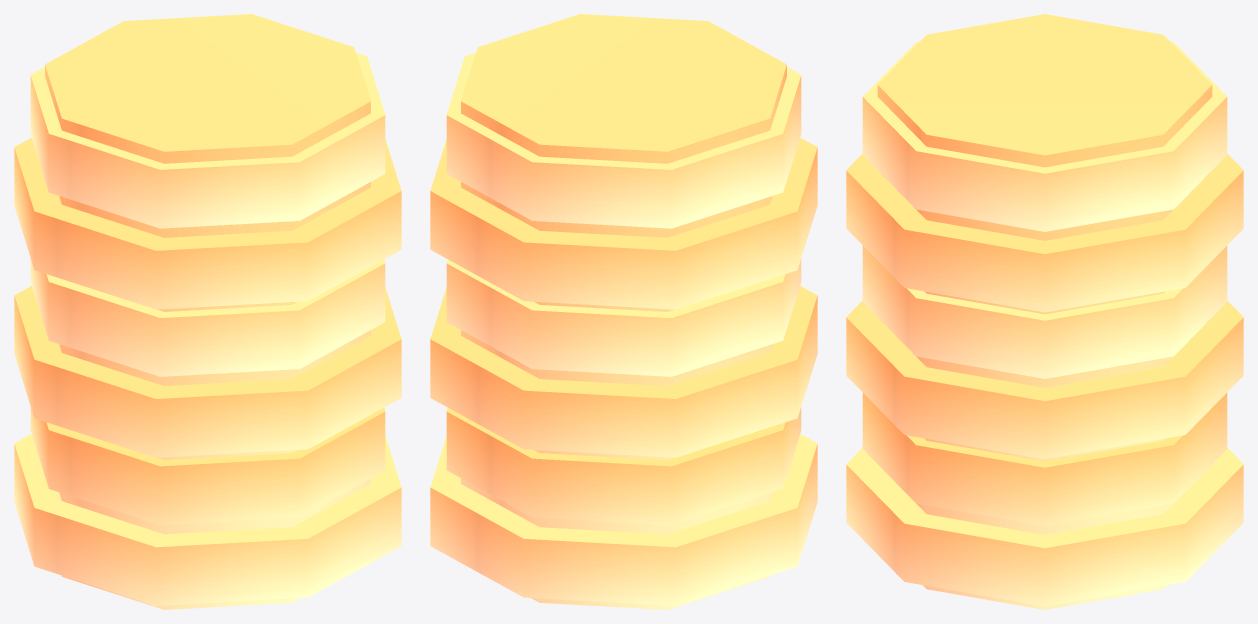
Rendered from wood_grip_095_004.glb.
The picture shows the model from 3 angles, left to right: view 1: azimuth 30°, elevation 25°; view 2: azimuth 150°, elevation 25°; view 3: azimuth 270°, elevation 25°; orthographic projection.
Visible parts, largest first — view 1: wood_grip_095.004; view 2: wood_grip_095.004; view 3: wood_grip_095.004.
Part boxes in pixels (bbox=[...]): wood_grip_095.004: bbox=[14, 14, 401, 609]; wood_grip_095.004: bbox=[430, 14, 817, 609]; wood_grip_095.004: bbox=[846, 14, 1243, 609].
Bounding box in the file's own units: 2.38 × 3 × 2.38.
1 material, 1 textured.
